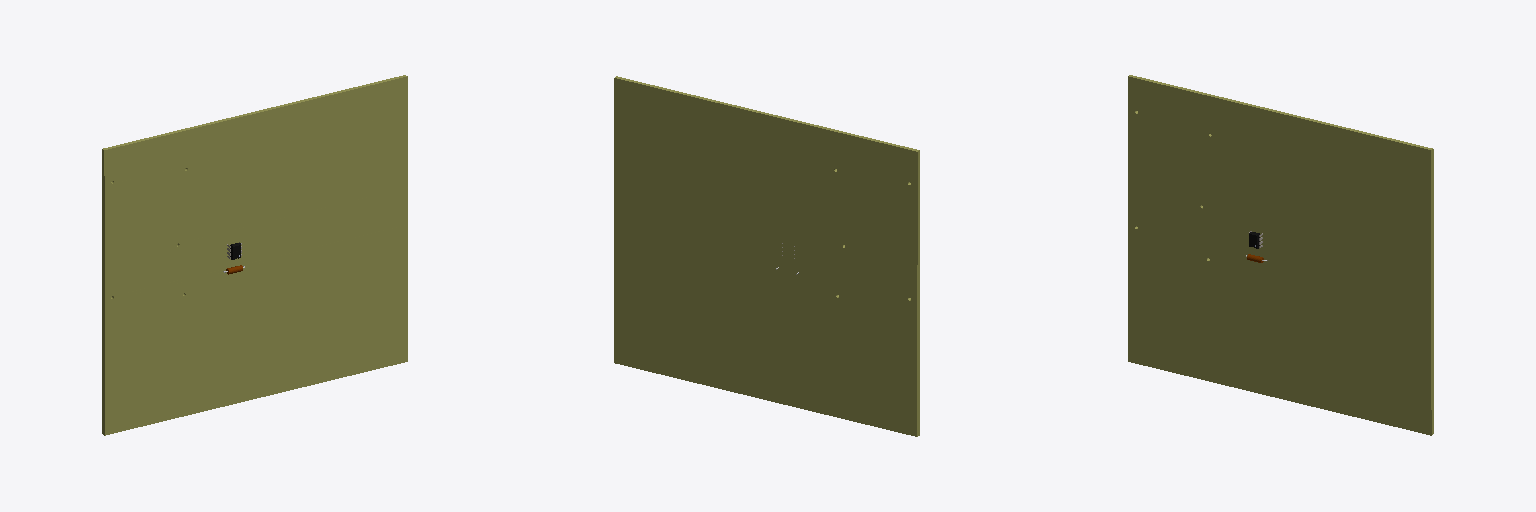
File: OBJ_PCB_HAM.obj
3 renders of one model, left to right at view 1: azimuth 30°, elevation 25°; view 2: azimuth 150°, elevation 25°; view 3: azimuth 330°, elevation 25°, orthographic.
Bounding box in the file's own units: 799 × 718 × 38.23.